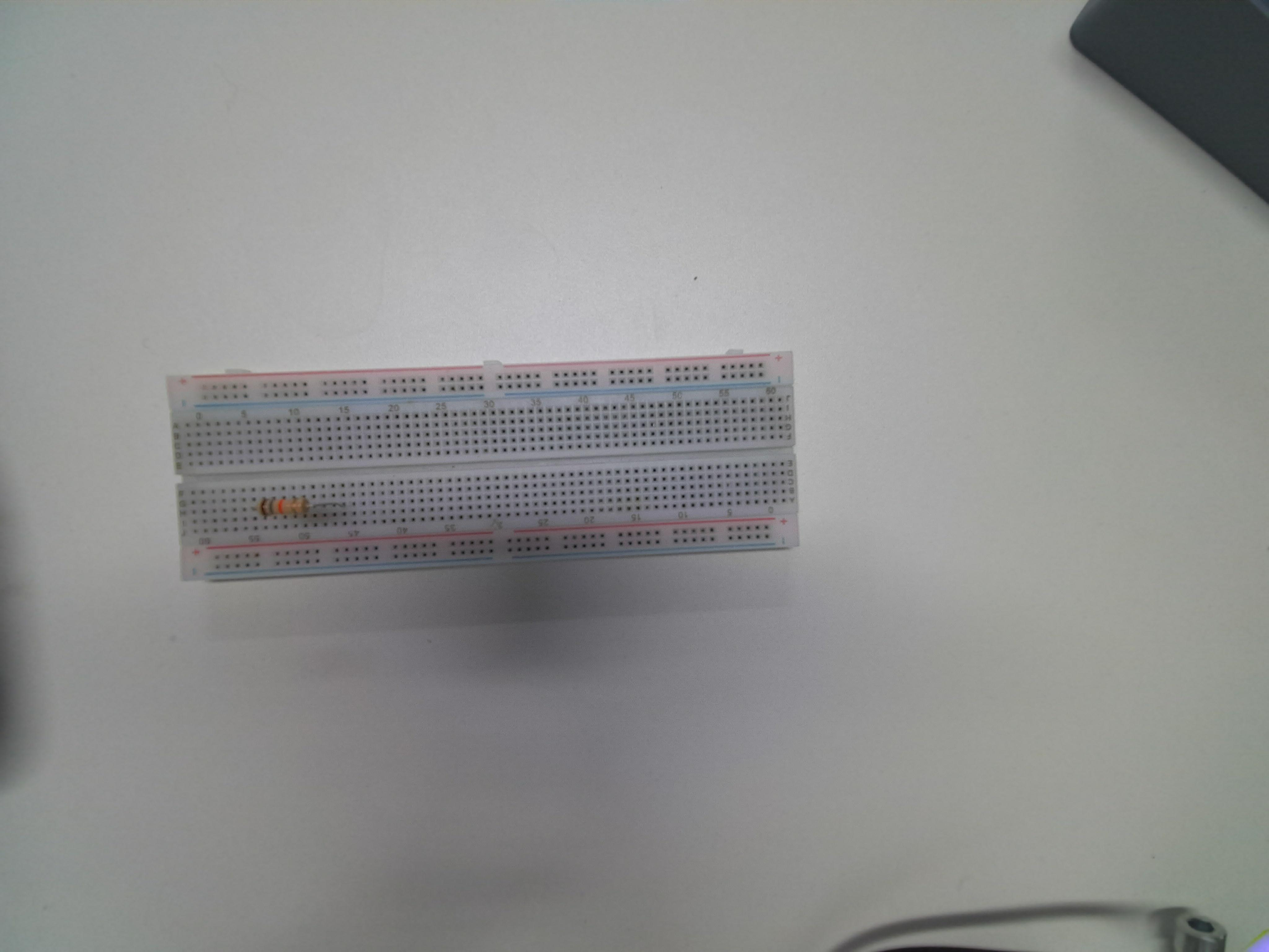base: (163, 355, 800, 584)
resistor-big: (260, 497, 311, 521)
